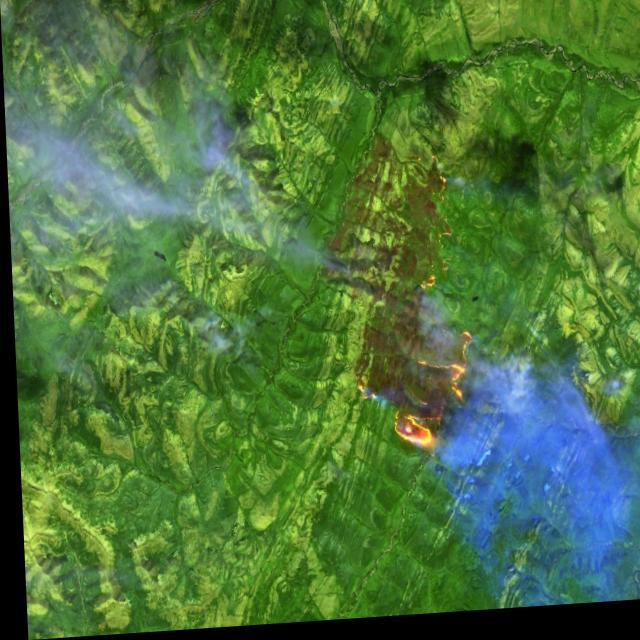fire: (340, 150, 481, 460)
